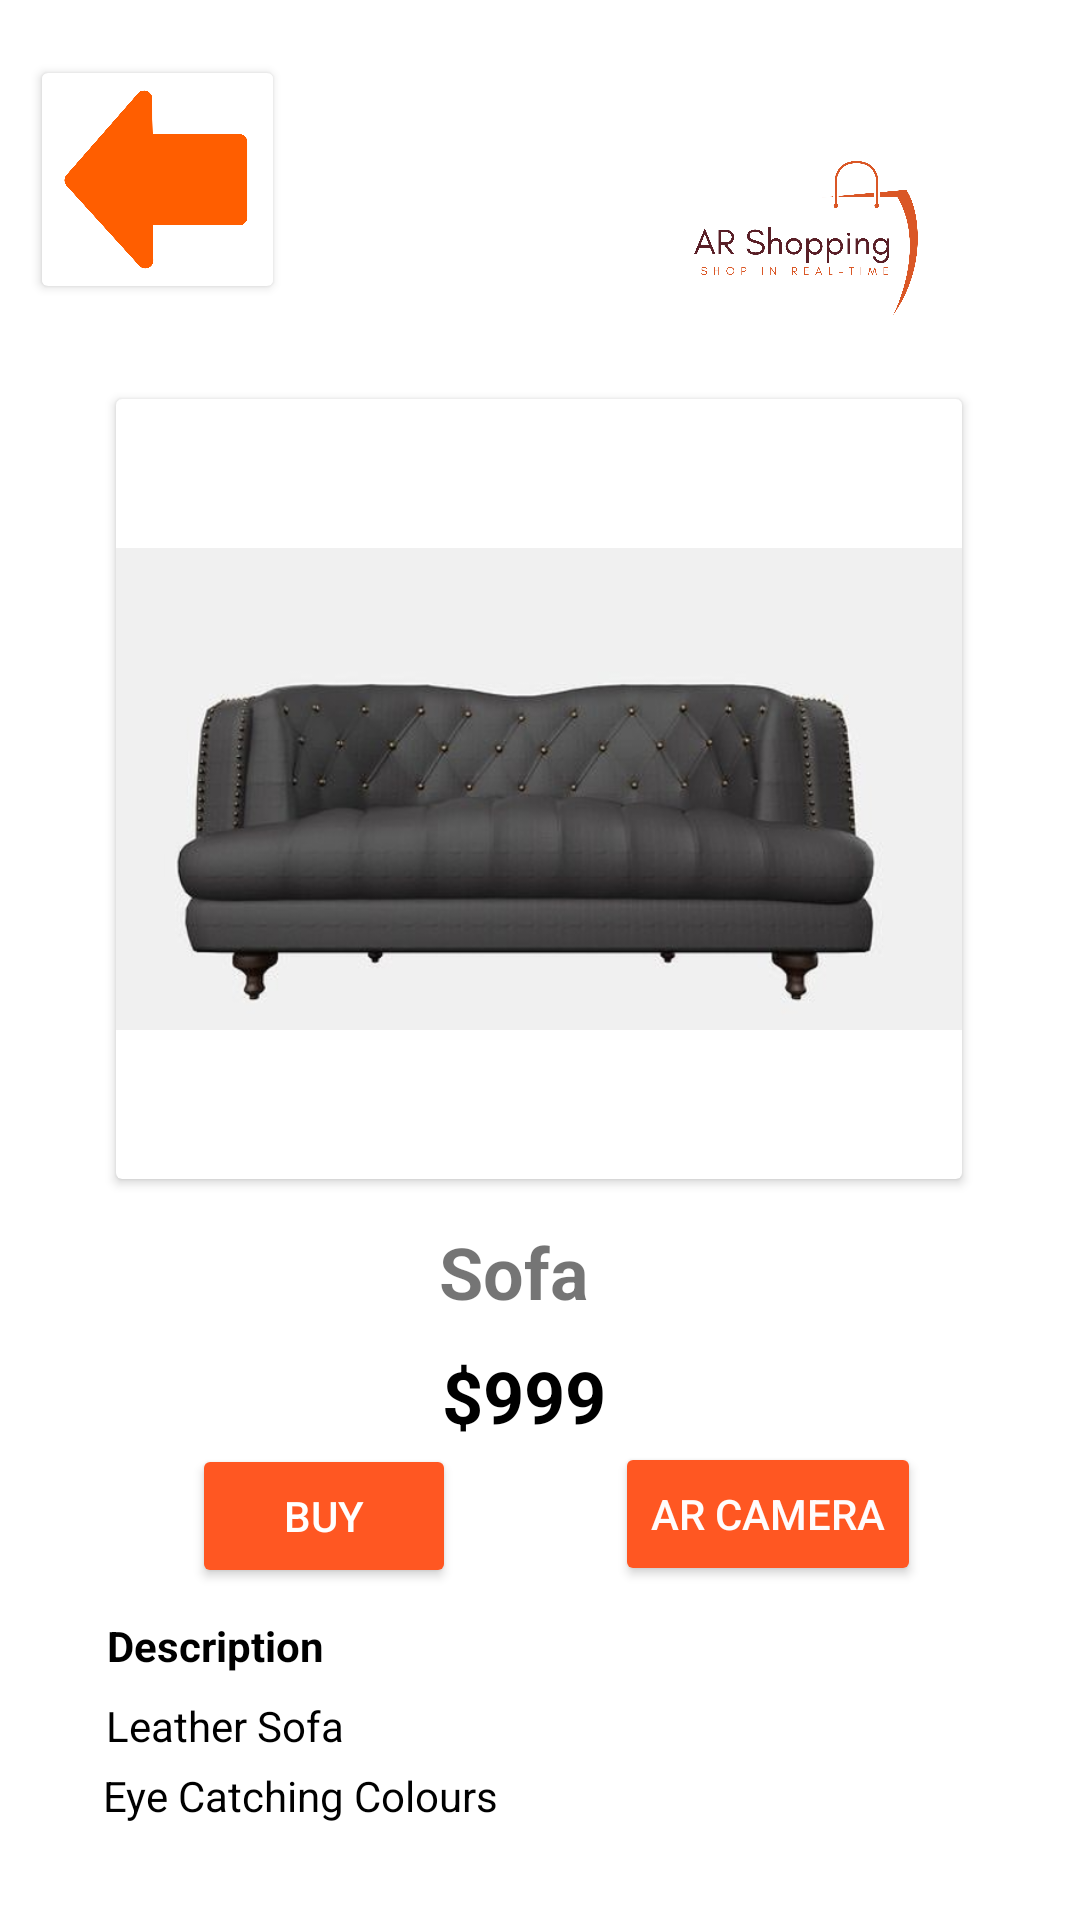

Screen size 1080 x 1920. Icon name, then its box in pixels as box(x1, y1, x2, y2):
arrowl: box(42, 90, 247, 286)
